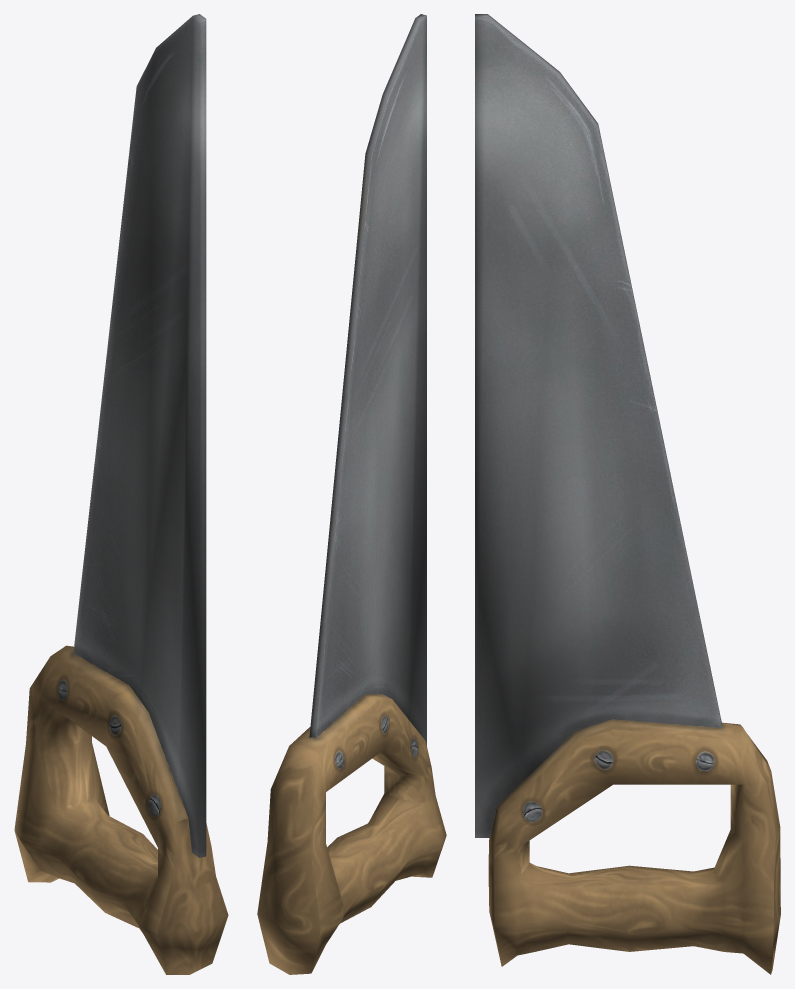
File: handsaw.FBX
3 renders of one model, left to right at view 1: azimuth 30°, elevation 25°; view 2: azimuth 150°, elevation 25°; view 3: azimuth 270°, elevation 25°, orthographic. The views are drawn at different scales.
Visible parts, largest first — view 1: handsaw_190412; view 2: handsaw_190412; view 3: handsaw_190412.
Boxes of the visible parts, x1,y1,x2,y2 form: handsaw_190412: [14, 14, 228, 974]; handsaw_190412: [257, 14, 446, 974]; handsaw_190412: [475, 14, 780, 974].
Size of the model in its own units: 4.83 by 50.27 by 14.59.
1 material, 1 textured.
